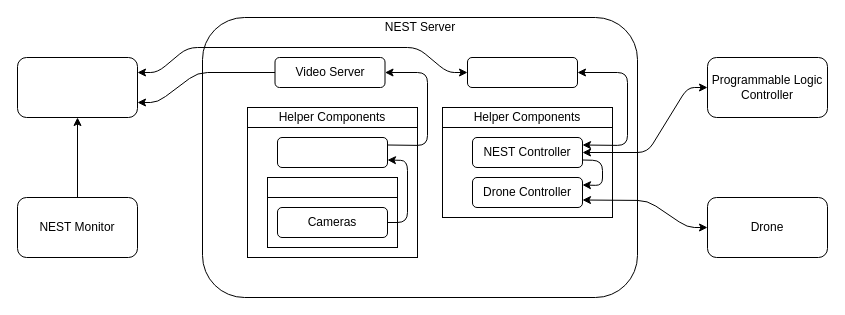
Some shapes in this 845 by 315 pixel diagram are drawn without their labels. Each missing label, with the centre of its shape:
"API Server" belongs at [522,72].
"Client Browser" belongs at [77,87].
"Hardware Components" belongs at [332,187].
"Video Factory" belongs at [332,152].
